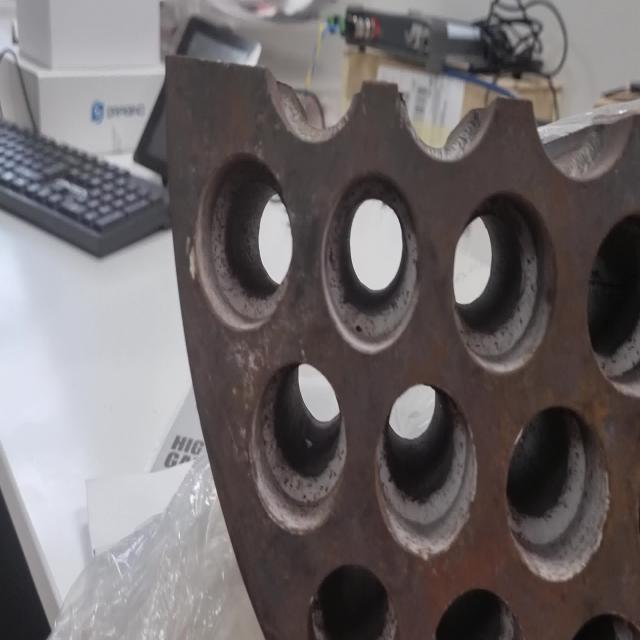Hole: (450, 188, 557, 375), (504, 402, 612, 584), (190, 151, 296, 331), (374, 380, 478, 558), (321, 169, 420, 354), (248, 361, 348, 535), (586, 210, 639, 398), (306, 562, 400, 639), (430, 586, 526, 640)
